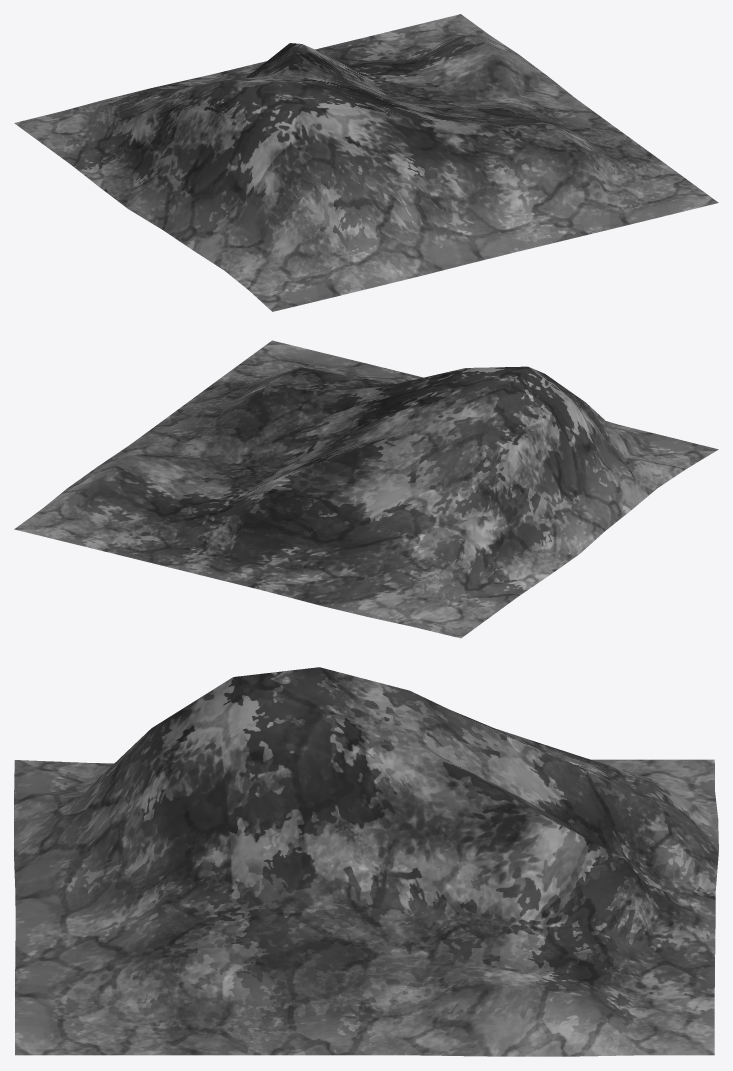
The model's file is Rubblepile1.fbx.
3 renders of one model, top to bottom at view 1: azimuth 30°, elevation 25°; view 2: azimuth 150°, elevation 25°; view 3: azimuth 270°, elevation 25°, orthographic. The views are drawn at different scales.
Parts seen in each view (by area): view 1: Rubble; view 2: Rubble; view 3: Rubble.
Boxes of the visible parts, x1=… form: Rubble: x1=14, y1=14, x2=718, y2=311; Rubble: x1=14, y1=340, x2=718, y2=638; Rubble: x1=14, y1=667, x2=718, y2=1056.
Size of the model in its own units: 1701 by 427 by 1697.
